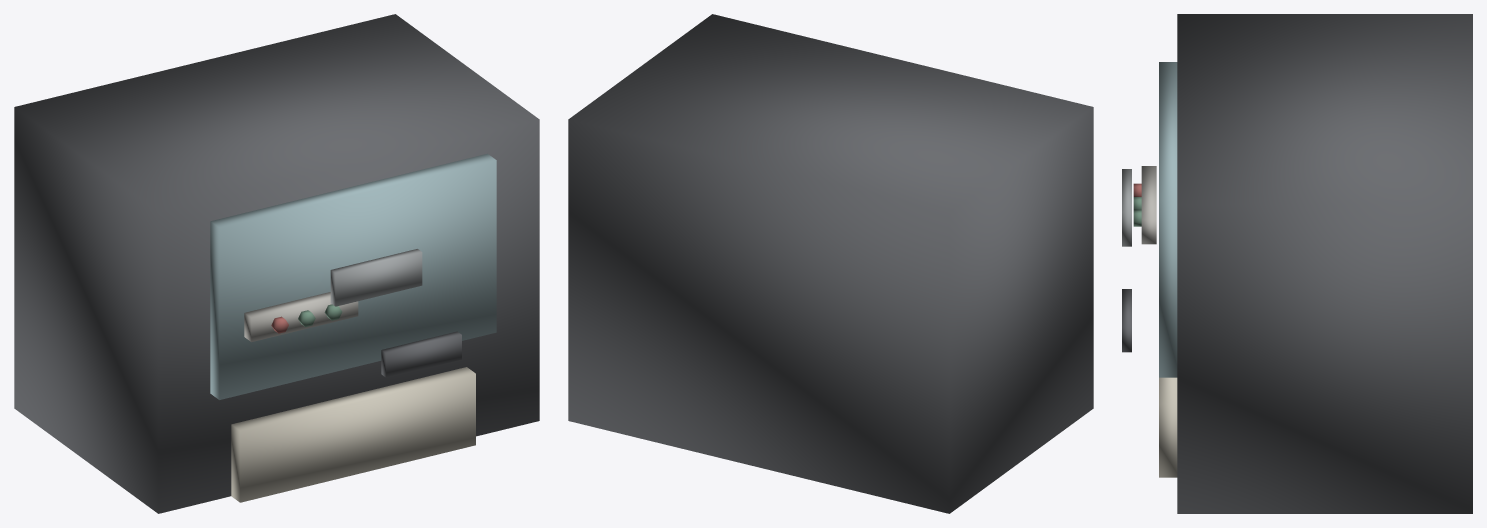
Rendered from terminal_pedestal__weathered.glb.
3 renders of one model, left to right at view 1: azimuth 30°, elevation 25°; view 2: azimuth 150°, elevation 25°; view 3: azimuth 270°, elevation 25°, orthographic. The views are drawn at different scales.
Visible parts, largest first — view 1: world; view 2: world; view 3: world.
Part boxes in pixels (<box>): world: <box>14,14,539,513</box>; world: <box>568,14,1093,513</box>; world: <box>1122,14,1472,513</box>.
Bounding box in the file's own units: 0.55 × 0.4158 × 0.4275.
